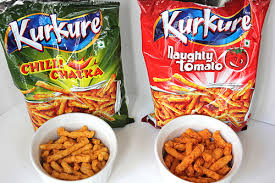kurkure: (4, 8, 104, 55), (35, 126, 110, 180), (162, 129, 236, 182), (151, 7, 252, 45)
plastic: (1, 1, 136, 126), (144, 1, 273, 123)
wrapper: (2, 1, 271, 130)
